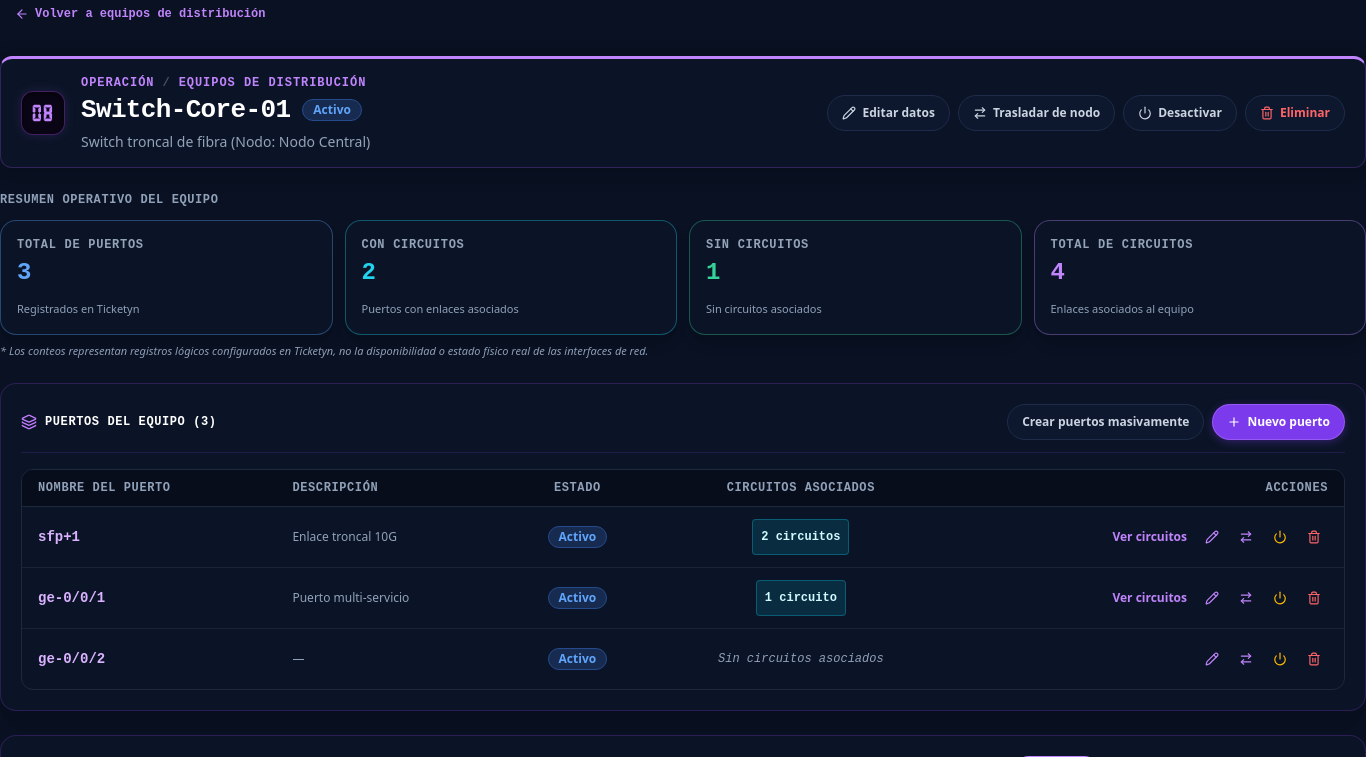
Test: DistributionDeviceDetail — Ficha técnica y gestión de puertos › filtra los circuitos asociados al pulsar sobre un puerto específico
Expected: the text "sfp+1" is shown, [38,529,80,545]
Click on port filter button in table: "2 circuitos"
Click the button "2 circuitos" at x=801, y=537, box [752,519,850,555]
(page scrolled)
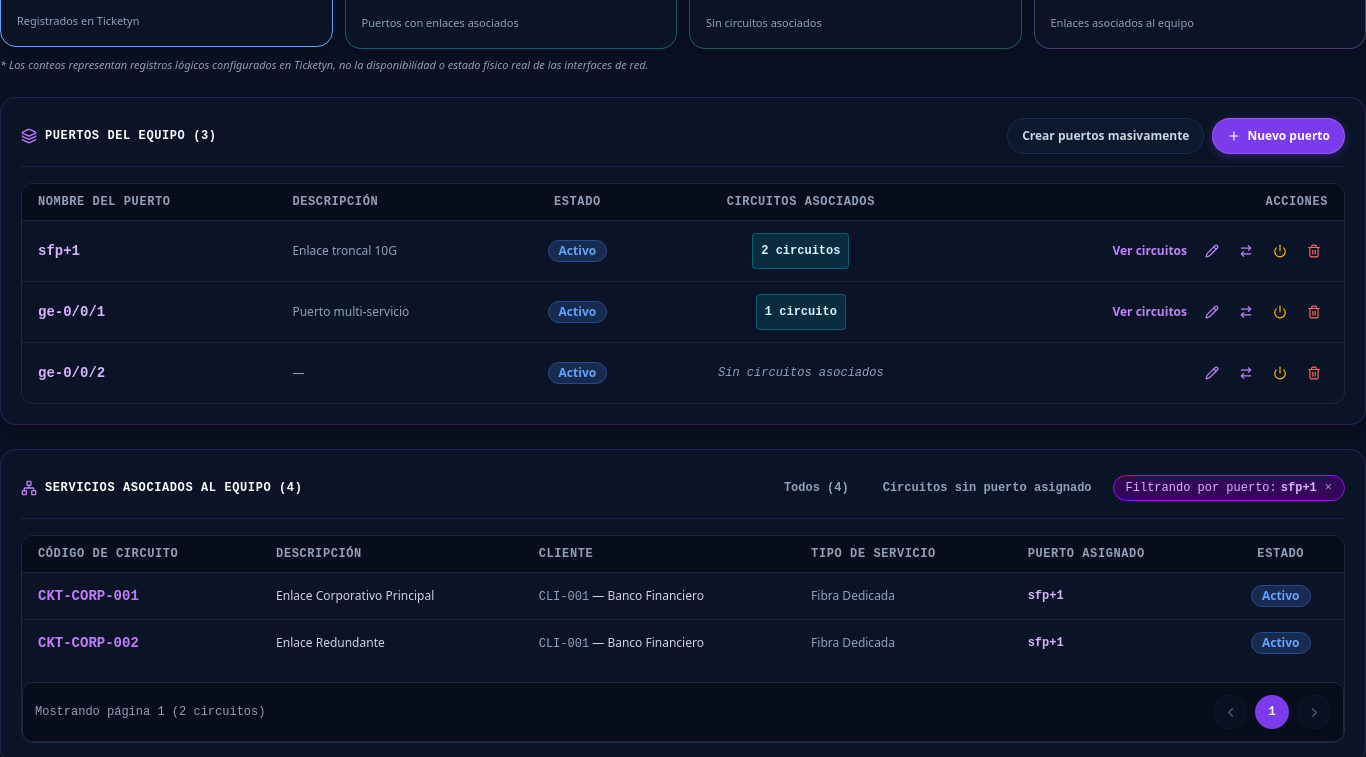
Expected: the text "Filtrando por puerto: sfp+1 ×" is shown, [1112,475,1345,501]
